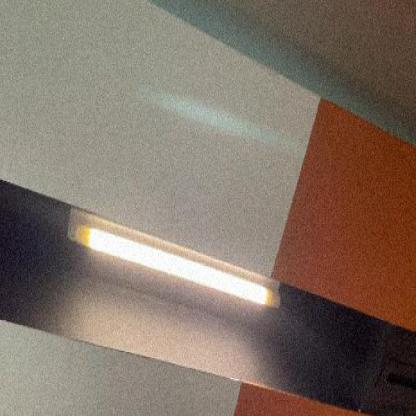light_on: (63, 197, 283, 321)
